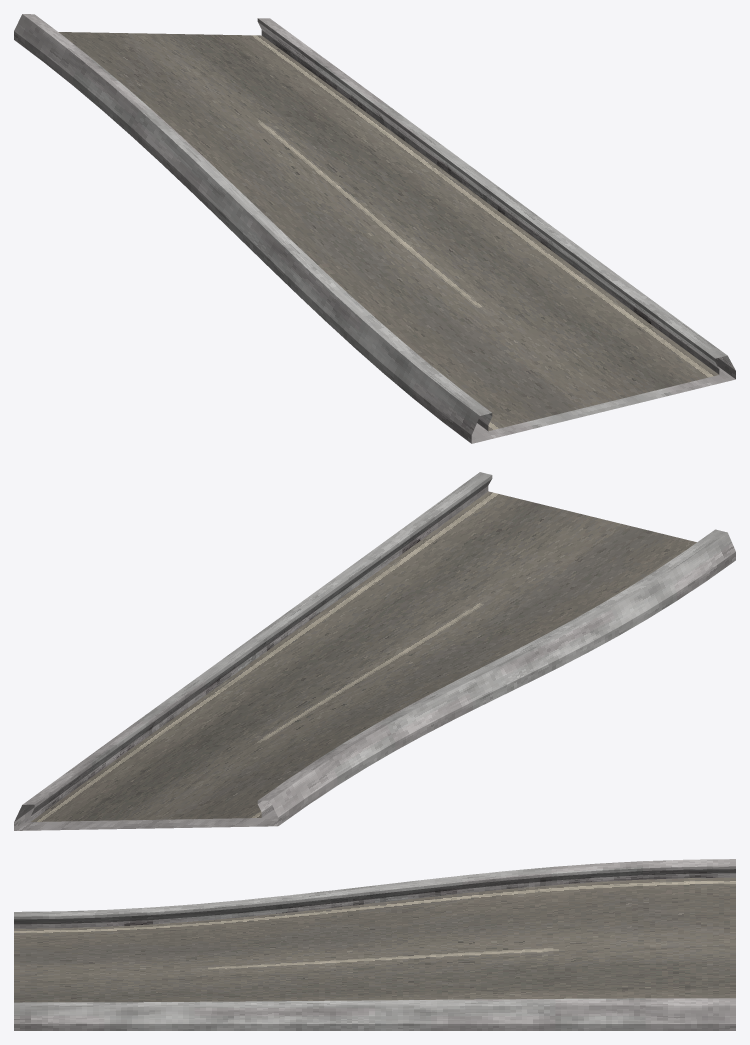
File: straight3.glb
The picture shows the model from 3 angles, top to bottom: view 1: azimuth 30°, elevation 25°; view 2: azimuth 150°, elevation 25°; view 3: azimuth 270°, elevation 25°; orthographic projection. The views are drawn at different scales.
Parts seen in each view (by area): view 1: road-Straight-Flat-HalfBankedRight-Even-Center-Size3; view 2: road-Straight-Flat-HalfBankedRight-Even-Center-Size3; view 3: road-Straight-Flat-HalfBankedRight-Even-Center-Size3.
Part boxes in pixels (x1,y1,x2,y2): road-Straight-Flat-HalfBankedRight-Even-Center-Size3: (14, 14, 735, 443); road-Straight-Flat-HalfBankedRight-Even-Center-Size3: (14, 472, 735, 830); road-Straight-Flat-HalfBankedRight-Even-Center-Size3: (14, 859, 735, 1030).
Size of the model in its own units: 1 by 0.3359 by 3.
Materials: 2 (2 with a texture image).
